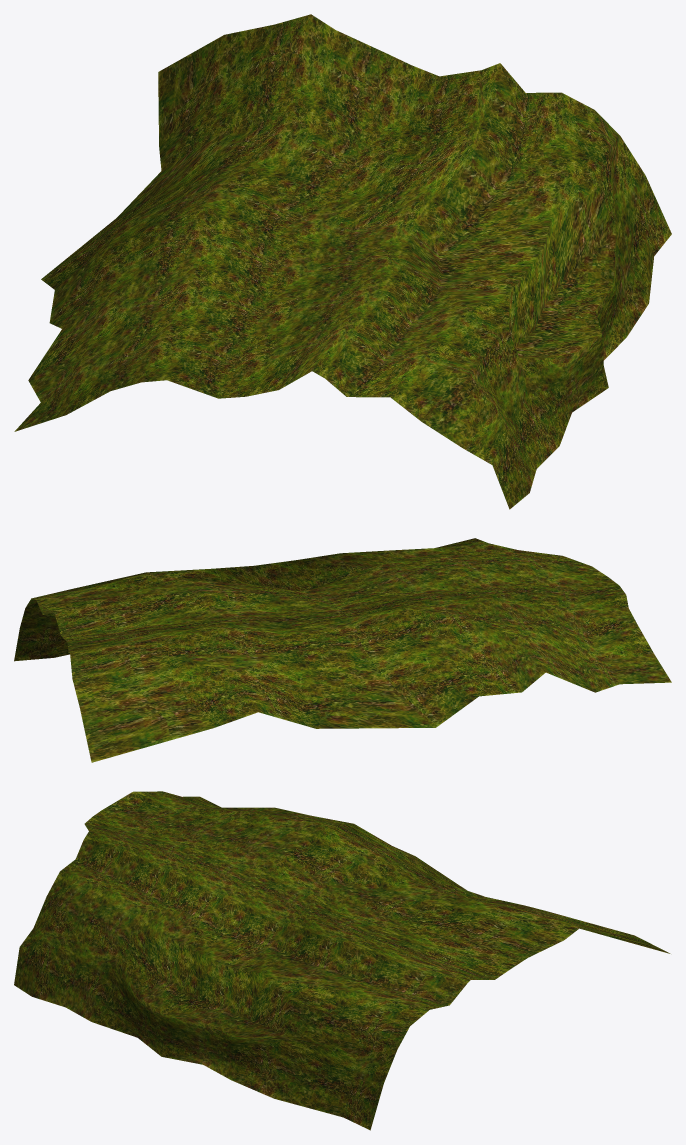
The model's file is TROLLHOLE02_ZOBJECT02.fbx.
3 renders of one model, top to bottom at view 1: azimuth 30°, elevation 25°; view 2: azimuth 150°, elevation 25°; view 3: azimuth 270°, elevation 25°, orthographic. The views are drawn at different scales.
Visible parts, largest first — view 1: TROLLHOLE02_ZOBJECT02; view 2: TROLLHOLE02_ZOBJECT02; view 3: TROLLHOLE02_ZOBJECT02.
Part boxes in pixels (x1,y1,x2,y2): TROLLHOLE02_ZOBJECT02: [14, 14, 671, 509]; TROLLHOLE02_ZOBJECT02: [14, 538, 671, 762]; TROLLHOLE02_ZOBJECT02: [14, 791, 670, 1130].
Bounding box in the file's own units: 429571 × 90549 × 429230.
Materials: 1 (1 with a texture image).
